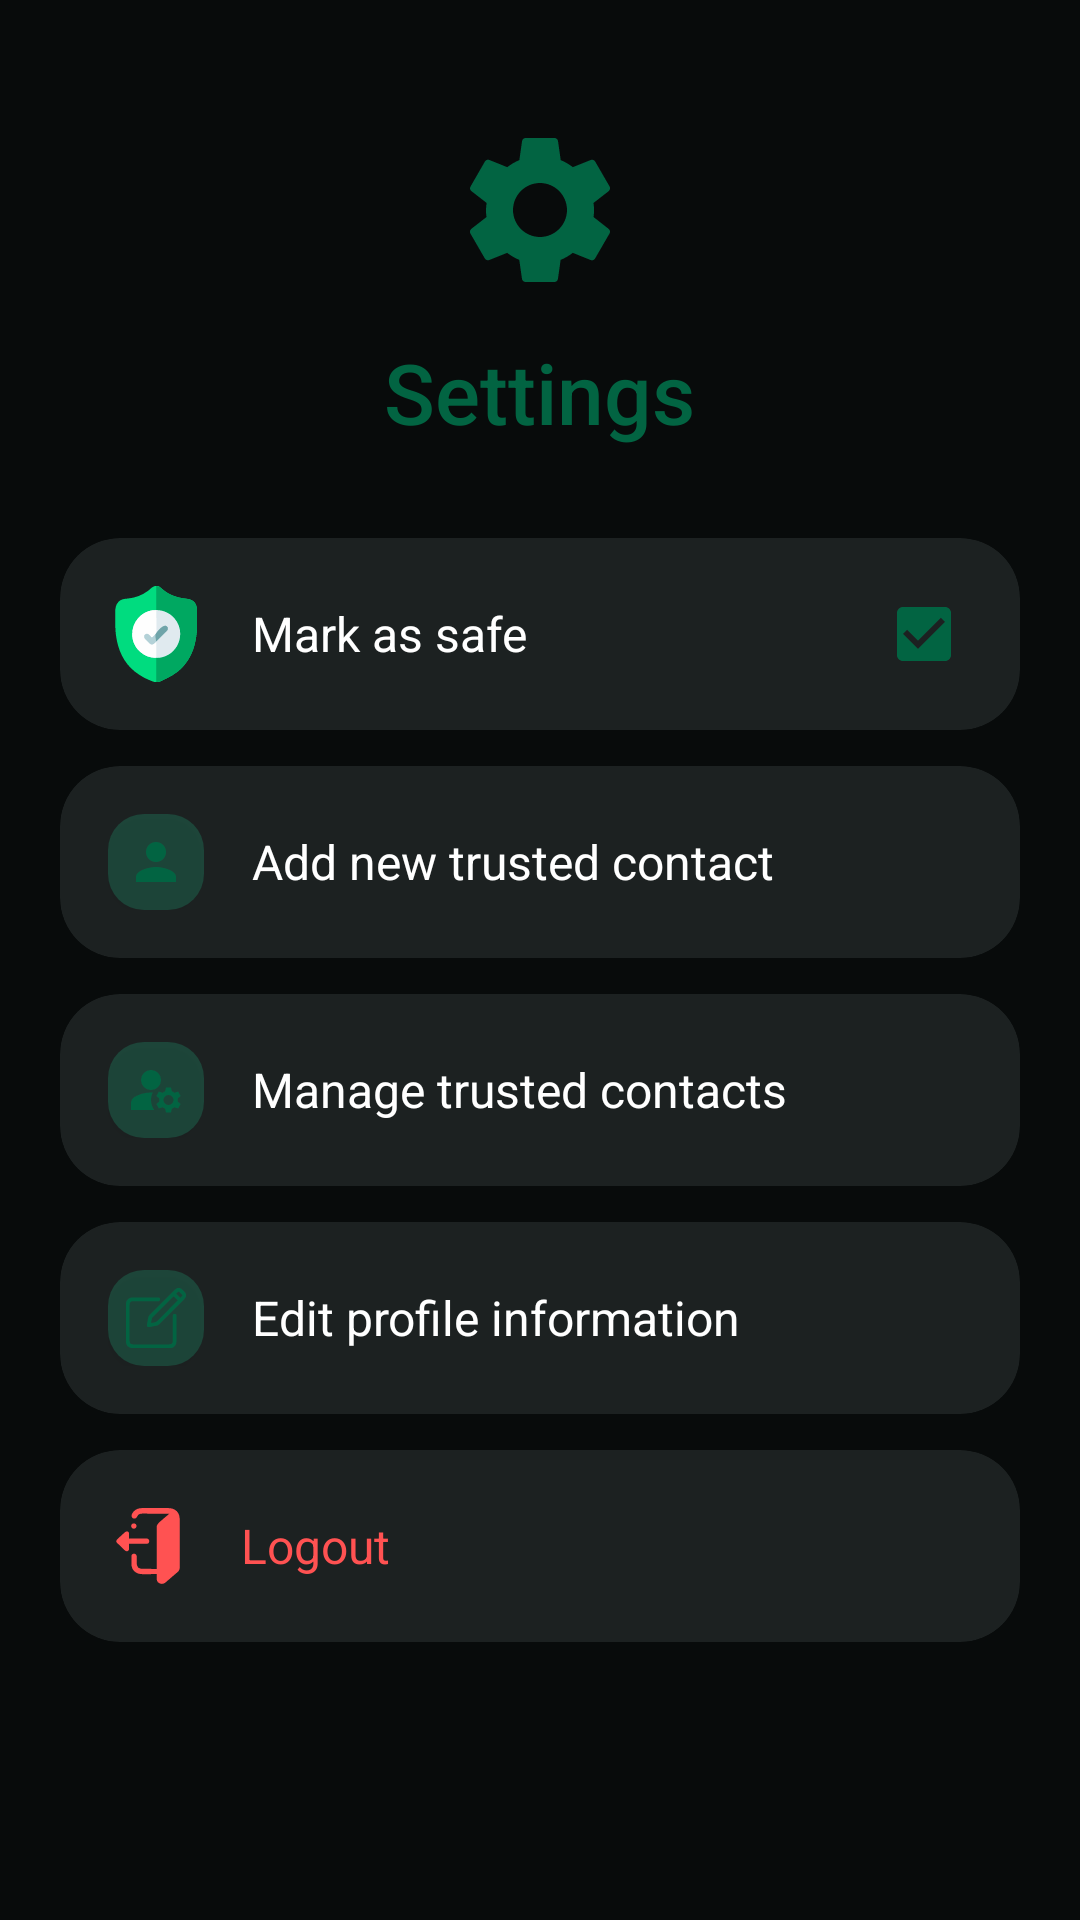

Icon bounding boxes for this 1080px×1920px phone screenshot, format (x1, y1, x2, y2):
editing: (108, 1270, 204, 1366)
person: (108, 814, 204, 910)
